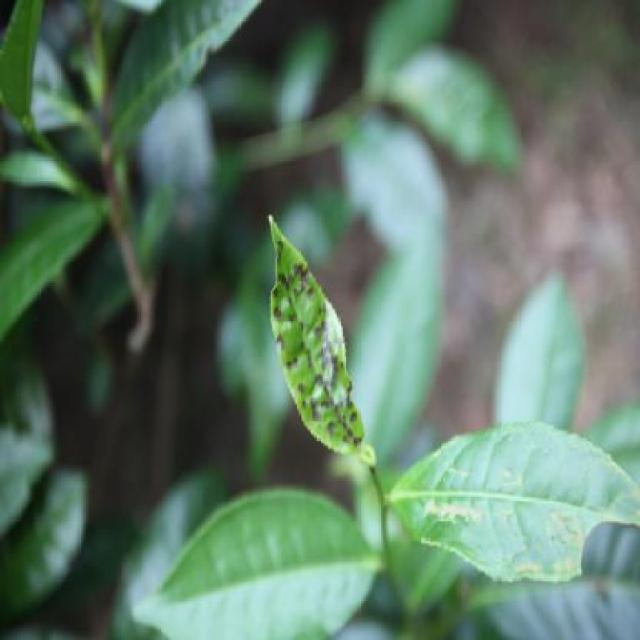Tea Mosquito bug infested leaf: (265, 220, 357, 485)
